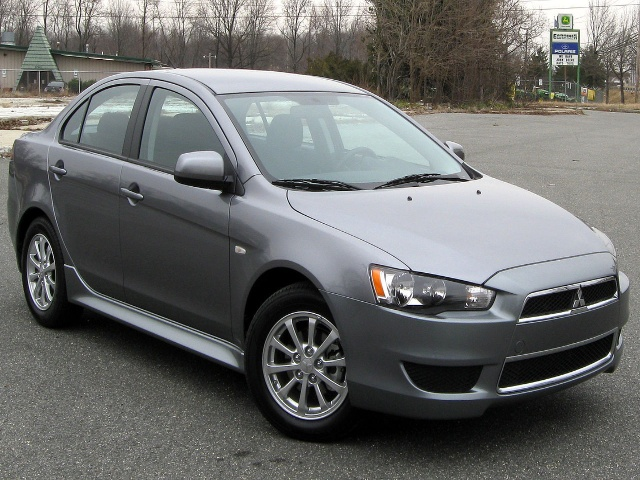Xe_hoi: (6, 64, 631, 442)
